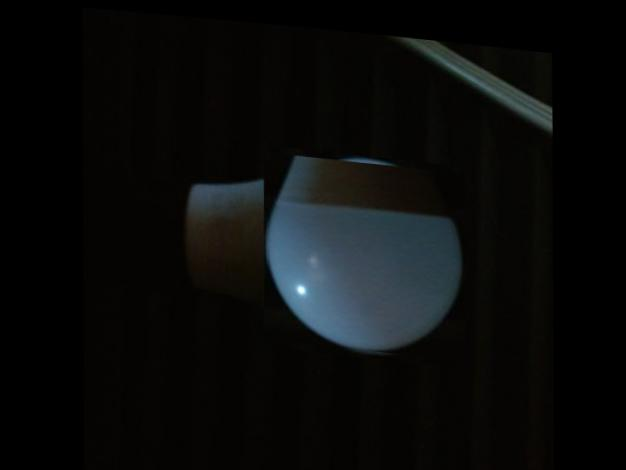Fan: (263, 143, 465, 356)
